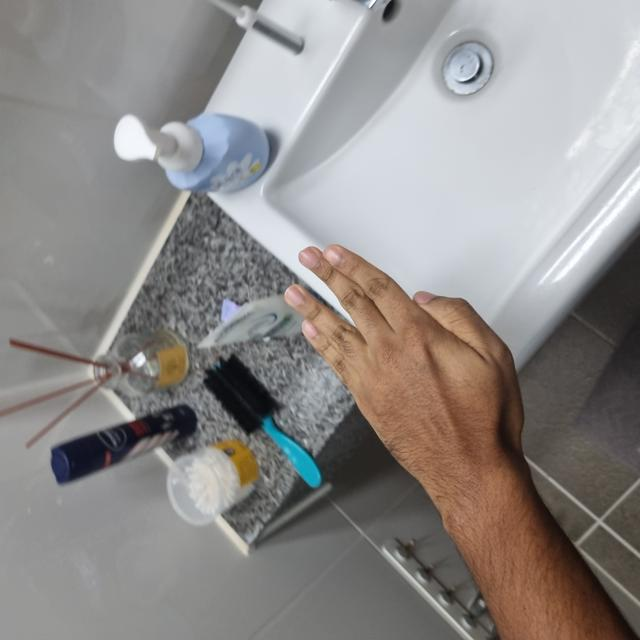Paper: (146, 289, 391, 509)
